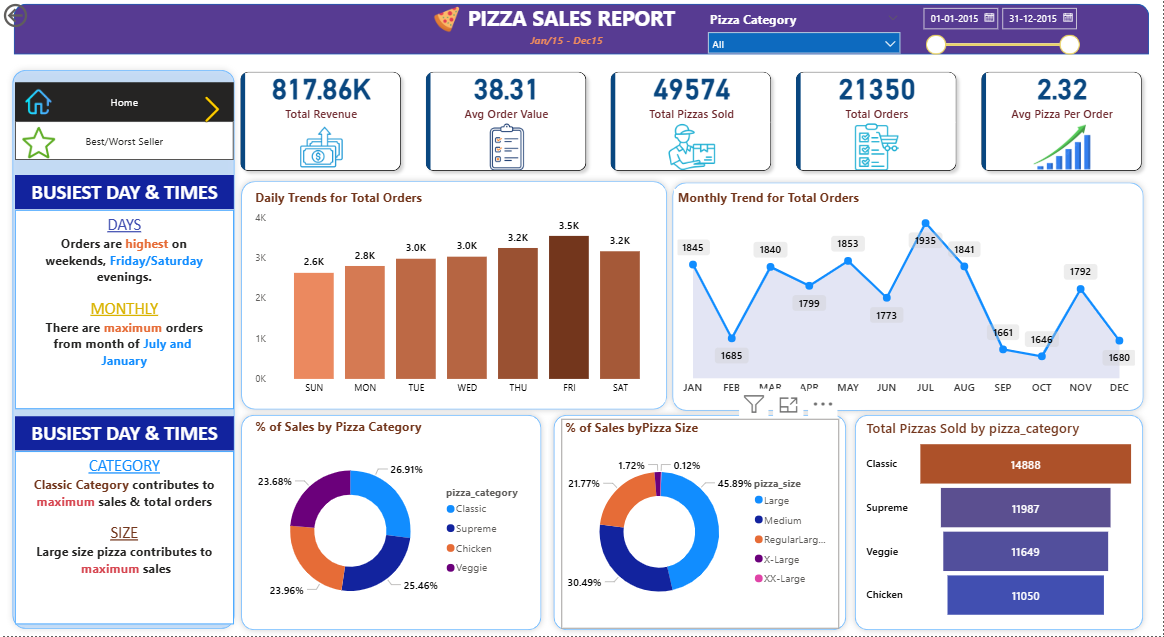

Layout of this report page (visuals, bound fields, positions):
{"tool":"powerbi","page":{"name":"Home","canvas":[1500,820],"ordinal":0},"visuals":[{"type":"cardVisual","fields":{"Data":["pizza_sales.Total Revenue","pizza_sales.Avg Order Value","pizza_sales.Total Pizzas Sold","pizza_sales.Total Orders","pizza_sales.Avg Pizza Per Order"]},"box":[286.9,69.6,1213,174.1],"z":0},{"type":"shape","box":[18.1,4.2,1465.1,65.5],"z":1000},{"type":"textbox","box":[598.6,0,302.9,50],"z":2000},{"type":"textbox","box":[678.2,37.6,158.8,32],"z":3000},{"type":"image","box":[552.9,8.4,46,33.4],"z":4000},{"type":"actionButton","box":[0,0,100,40],"z":5000},{"type":"shape","box":[303.6,225.6,565.4,310.6],"z":6000},{"type":"columnChart","title":"Daily Trends for Total Orders","fields":{"Category":["pizza_sales.Order Day"],"Y":["pizza_sales.Total Orders"]},"box":[324.6,243.5,534.3,275.6],"z":7000},{"type":"shape","box":[8.5,82.8,302.6,737.2],"z":8000},{"type":"shape","box":[859.3,227,623.9,310.6],"z":9000},{"type":"areaChart","title":"Monthly Trend for Total Orders","fields":{"Category":["pizza_sales.Order Month"],"Y":["pizza_sales.Total Orders"]},"box":[869,243.7,600.2,275.7],"z":10000},{"type":"shape","box":[303.4,526.7,403.1,293.5],"z":11000},{"type":"shape","box":[706.5,526.7,393.3,293.5],"z":12000},{"type":"textbox","box":[18.6,226.6,282.4,44],"z":13000},{"type":"shape","box":[1095.5,526.7,387.6,293.5],"z":14000},{"type":"donutChart","title":"% of Sales by Pizza Category","fields":{"Category":["pizza_sales.pizza_category"],"Y":["pizza_sales.Total Revenue"]},"box":[324.4,537.9,365.2,271.1],"z":15000},{"type":"donutChart","title":"% of Sales byPizza Size","fields":{"Y":["pizza_sales.Total Revenue"],"Category":["pizza_sales.pizza_size"]},"box":[723.6,541,358.4,270.5],"z":16000},{"type":"funnel","fields":{"Category":["pizza_sales.pizza_category"],"Y":["pizza_sales.Total Pizzas Sold"]},"box":[1112.5,541,356.7,263.8],"z":17000},{"type":"textbox","box":[18.6,270.5,282.4,257],"z":18000},{"type":"textbox","box":[18.6,537.7,282.4,44],"z":19000},{"type":"textbox","box":[18.6,581.6,282.4,223.2],"z":20000},{"type":"slicer","fields":{"Values":["pizza_sales.pizza_category"]},"box":[903.1,8.4,268.3,61.8],"z":21000},{"type":"slicer","fields":{"Values":["pizza_sales.order_date"]},"box":[1179.8,0,221.9,74.4],"z":22000},{"type":"pageNavigator","box":[18.6,106.5,282.4,50.7],"z":23000},{"type":"pageNavigator","box":[18.6,157.2,282.4,50.7],"z":24000},{"type":"image","box":[224.9,123.4,99.8,33.8],"z":25000},{"type":"image","box":[0,115,99.8,33.8],"z":26000},{"type":"image","box":[0,162.3,99.8,42.3],"z":27000}]}

Visuals, with their boxes in screenshot pixels (x1, y1, x2, y2), scaled from the page's 1500x820 canvas onto the 1164x637 screenshot:
cardVisual - pizza_sales.Total Revenue x pizza_sales.Avg Order Value: <bbox>223, 54, 1163, 189</bbox>
shape: <bbox>14, 3, 1151, 54</bbox>
textbox: <bbox>465, 0, 700, 39</bbox>
textbox: <bbox>526, 29, 650, 54</bbox>
image: <bbox>429, 7, 465, 32</bbox>
actionButton: <bbox>0, 0, 78, 31</bbox>
shape: <bbox>236, 175, 674, 417</bbox>
"Daily Trends for Total Orders" columnChart: <bbox>252, 189, 667, 403</bbox>
shape: <bbox>7, 64, 241, 636</bbox>
shape: <bbox>667, 176, 1151, 418</bbox>
"Monthly Trend for Total Orders" areaChart: <bbox>674, 189, 1140, 403</bbox>
shape: <bbox>235, 409, 548, 636</bbox>
shape: <bbox>548, 409, 853, 636</bbox>
textbox: <bbox>14, 176, 234, 210</bbox>
shape: <bbox>850, 409, 1151, 636</bbox>
"% of Sales by Pizza Category" donutChart: <bbox>252, 418, 535, 628</bbox>
"% of Sales byPizza Size" donutChart: <bbox>562, 420, 840, 630</bbox>
funnel - pizza_sales.pizza_category x pizza_sales.Total Pizzas Sold: <bbox>863, 420, 1140, 625</bbox>
textbox: <bbox>14, 210, 234, 410</bbox>
textbox: <bbox>14, 418, 234, 452</bbox>
textbox: <bbox>14, 452, 234, 625</bbox>
slicer - pizza_sales.pizza_category: <bbox>701, 7, 909, 55</bbox>
slicer - pizza_sales.order_date: <bbox>916, 0, 1088, 58</bbox>
pageNavigator: <bbox>14, 83, 234, 122</bbox>
pageNavigator: <bbox>14, 122, 234, 162</bbox>
image: <bbox>175, 96, 252, 122</bbox>
image: <bbox>0, 89, 77, 116</bbox>
image: <bbox>0, 126, 77, 159</bbox>
